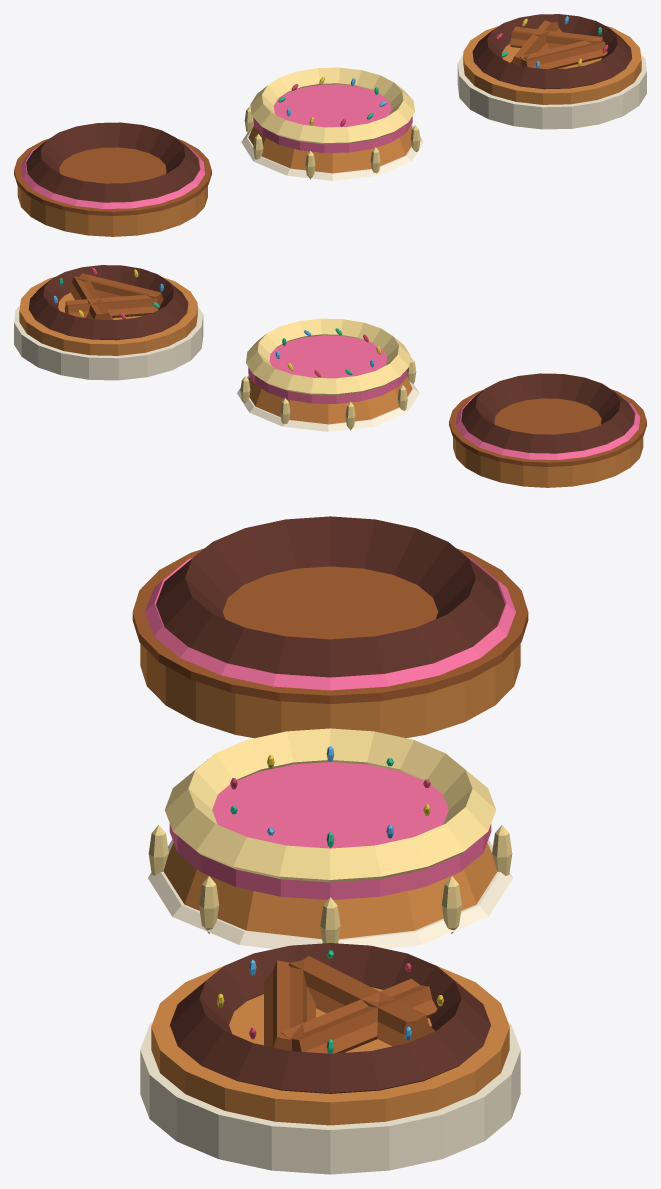
The model's file is churus_postres_r6.glb.
3 views of the same model, one above another, from view 1: azimuth 30°, elevation 25°; view 2: azimuth 150°, elevation 25°; view 3: azimuth 270°, elevation 25° (orthographic). The views are drawn at different scales.
Parts seen in each view (by area): view 1: Glaseado, Borde crema, Chocolate, Glaseado.001, Borde de dona, Plato de churro, Bizcocho, Base de dona, Pastelito, Borde de glaseado, Churro estriado, Copa de papel (+4 smaller); view 2: Glaseado, Chocolate, Borde crema, Glaseado.001, Borde de dona, Plato de churro, Bizcocho, Base de dona, Pastelito, Borde de glaseado, Copa de papel, Churro estriado.001 (+4 smaller); view 3: Glaseado, Borde crema, Chocolate, Glaseado.001, Borde de dona, Plato de churro, Bizcocho, Base de dona, Pastelito, Borde de glaseado, Copa de papel, Churro estriado.002 (+3 smaller).
Part boxes in pixels (x1,y1,x2,y2): Glaseado: (26, 122, 199, 202); Borde crema: (250, 67, 414, 144); Chocolate: (472, 14, 632, 89); Glaseado.001: (253, 84, 412, 152); Borde de dona: (14, 138, 211, 215); Plato de churro: (457, 54, 646, 129); Bizcocho: (463, 26, 641, 104); Base de dona: (17, 186, 207, 236); Pastelito: (248, 125, 412, 173); Borde de glaseado: (20, 145, 204, 208); Churro estriado: (520, 37, 607, 68); Copa de papel: (241, 124, 423, 180); Glaseado: (461, 373, 634, 453); Chocolate: (28, 265, 188, 340); Borde crema: (246, 318, 410, 395); Glaseado.001: (248, 335, 407, 403); Borde de dona: (449, 389, 646, 466); Plato de churro: (14, 305, 203, 380); Bizcocho: (19, 277, 197, 355); Base de dona: (453, 437, 643, 487); Pastelito: (248, 376, 412, 424); Borde de glaseado: (456, 396, 640, 459); Copa de papel: (237, 375, 419, 431); Churro estriado.001: (64, 294, 158, 317); Glaseado: (156, 516, 504, 677); Borde crema: (165, 728, 495, 882); Chocolate: (170, 943, 490, 1093); Glaseado.001: (169, 762, 491, 899); Borde de dona: (132, 548, 528, 703); Plato de churro: (140, 1022, 520, 1174); Bizcocho: (151, 966, 509, 1125); Base de dona: (140, 643, 520, 738); Pastelito: (163, 843, 497, 939); Borde de glaseado: (145, 557, 515, 690); Copa de papel: (148, 839, 512, 948); Churro estriado.002: (281, 978, 437, 1053).
Size of the model in its own units: 16.59 by 1.37 by 4.68.
